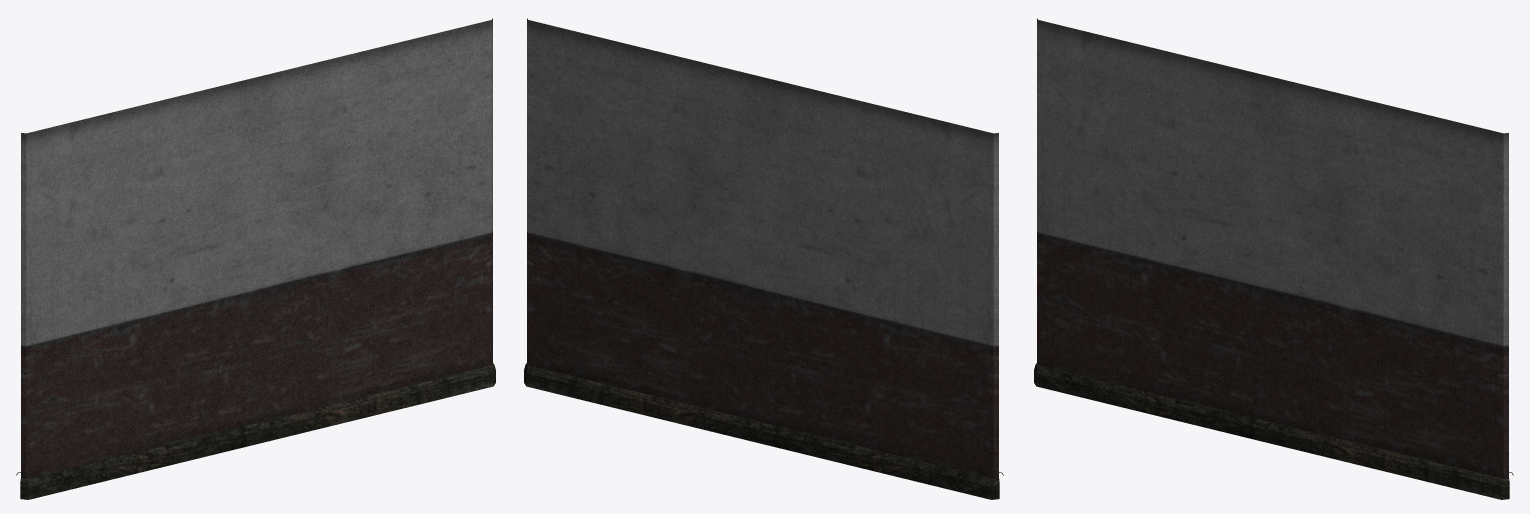
3 views of the same model, side by side, from view 1: azimuth 30°, elevation 25°; view 2: azimuth 150°, elevation 25°; view 3: azimuth 330°, elevation 25° (orthographic).
Parts seen in each view (by area): view 1: wall_1; view 2: wall_1; view 3: wall_1.
Part boxes in pixels (x1,y1,x2,y2): wall_1: (16,18,495,499); wall_1: (524,18,1003,499); wall_1: (1034,18,1513,499).
Bounding box in the file's own units: 4.09 × 3 × 0.18.
4 materials, 4 textured.
